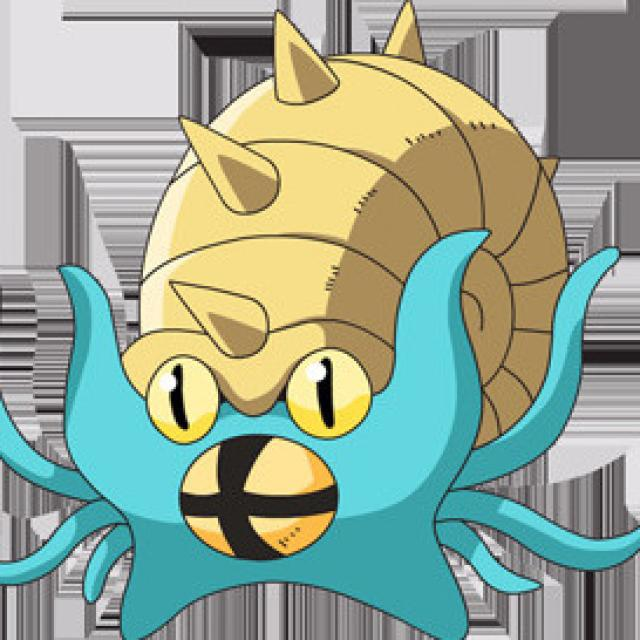Omastar: (63, 39, 598, 624)
